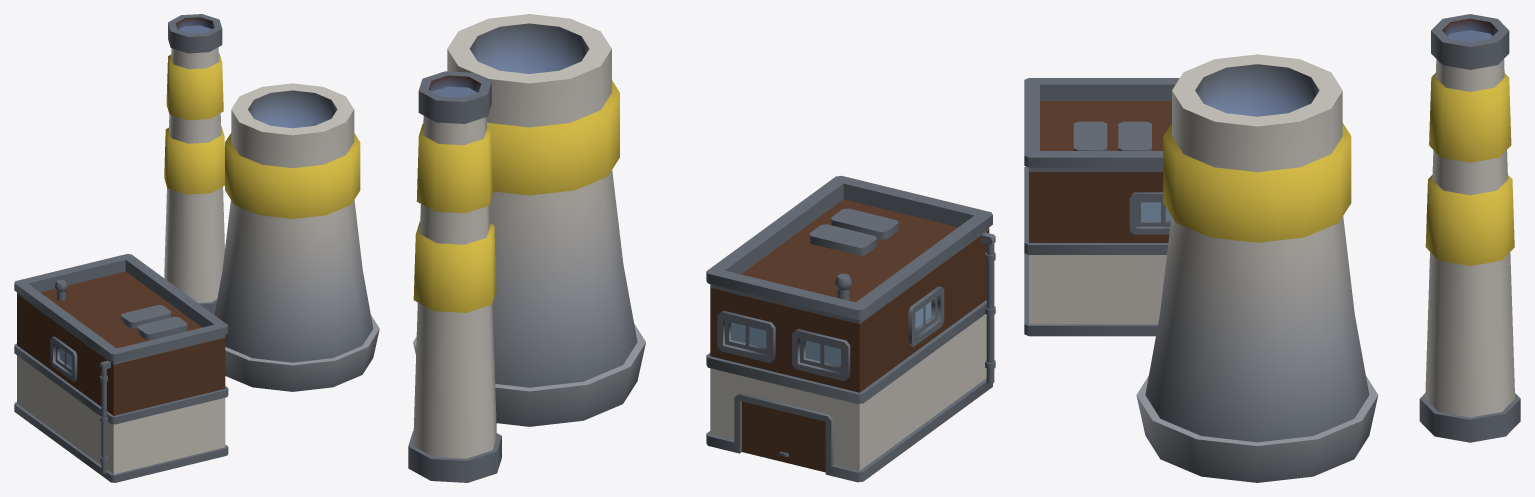
The model's file is power-plant.glb.
3 renders of one model, left to right at view 1: azimuth 30°, elevation 25°; view 2: azimuth 150°, elevation 25°; view 3: azimuth 270°, elevation 25°, orthographic. The views are drawn at different scales.
Parts seen in each view (by area): view 1: power-plant; view 2: power-plant; view 3: power-plant.
Boxes of the visible parts, x1,y1,x2,y2 form: power-plant: (14, 14, 379, 482); power-plant: (408, 14, 995, 482); power-plant: (1024, 14, 1520, 482).
Bounding box in the file's own units: 0.92 × 0.7159 × 0.8239.
